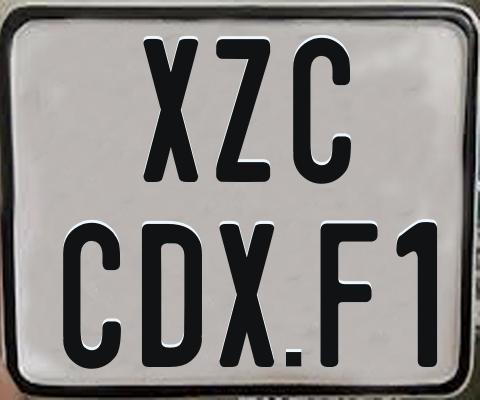1: (394, 220, 435, 367)
C: (292, 37, 354, 188), (62, 223, 121, 373)
D: (141, 224, 206, 371)
F: (317, 224, 375, 367)
X: (219, 221, 278, 365), (140, 39, 196, 188)
Z: (216, 36, 276, 183)
